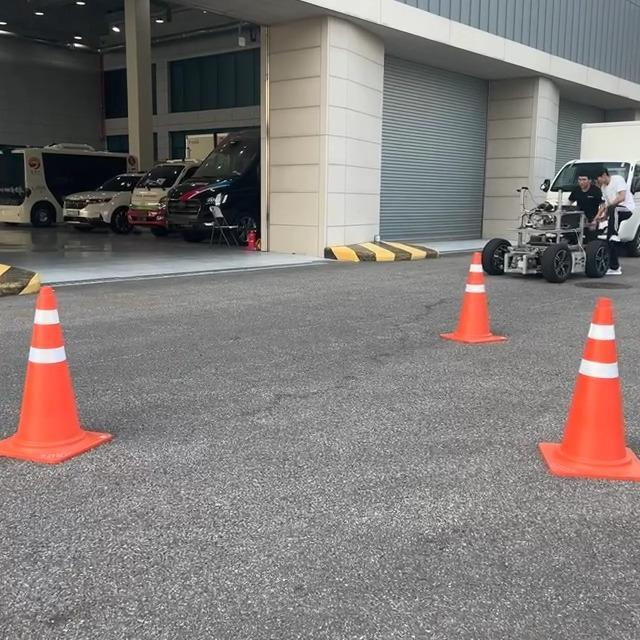fallen_object: (487, 250, 640, 556), (0, 227, 145, 485), (430, 227, 507, 400)
